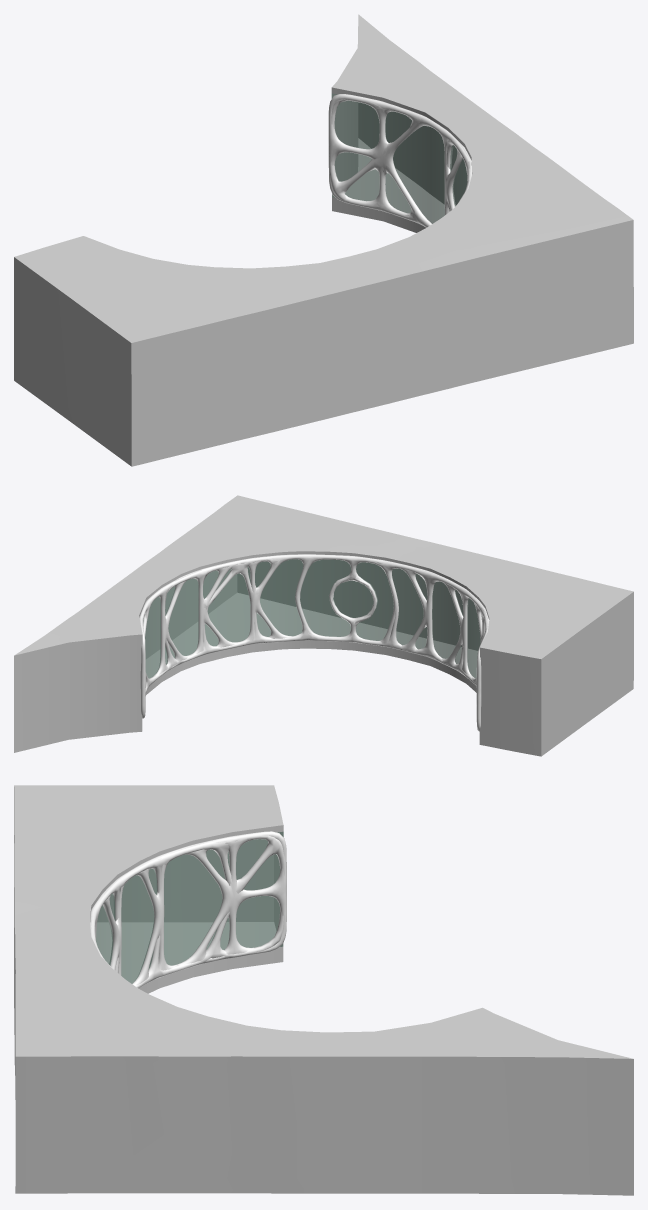
Rendered from Aquarium_final_etGrill.fbx.
3 views of the same model, one above another, from view 1: azimuth 30°, elevation 25°; view 2: azimuth 150°, elevation 25°; view 3: azimuth 270°, elevation 25° (orthographic). The views are drawn at different scales.
Parts seen in each view (by area): view 1: aquarium_fin, Grille 01, Grille02; view 2: aquarium_fin, Grille 01, Grille02; view 3: aquarium_fin, Grille 01, Grille02.
Part boxes in pixels (x1=…): aquarium_fin: x1=14, y1=14, x2=633, y2=466; Grille 01: x1=328, y1=94, x2=471, y2=223; Grille02: x1=329, y1=96, x2=470, y2=227; aquarium_fin: x1=14, y1=495, x2=633, y2=756; Grille 01: x1=139, y1=554, x2=489, y2=731; Grille02: x1=140, y1=554, x2=487, y2=712; aquarium_fin: x1=14, y1=785, x2=633, y2=1195; Grille 01: x1=90, y1=831, x2=286, y2=985; Grille02: x1=91, y1=834, x2=286, y2=988.
Size of the model in its own units: 1242 by 290 by 1189.
